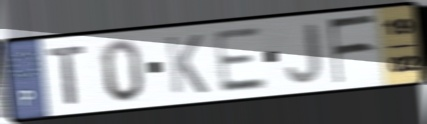0: (98, 36, 146, 105)
E: (211, 25, 271, 96)
F: (326, 12, 378, 87)
J: (283, 21, 324, 86)
K: (163, 33, 211, 96)
T: (45, 43, 89, 107)
